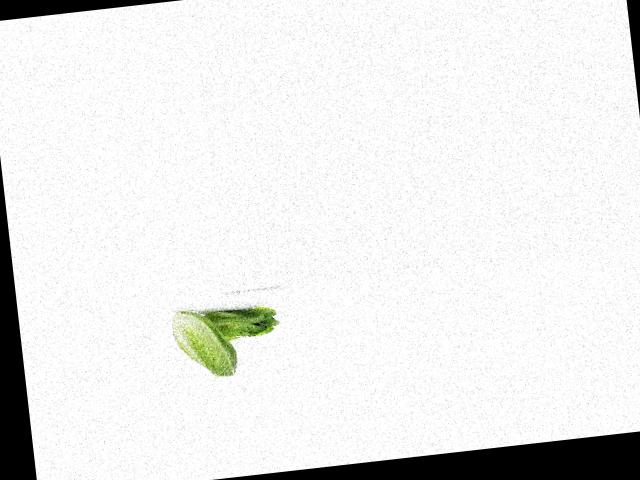lettuce: (203, 294, 280, 349)
